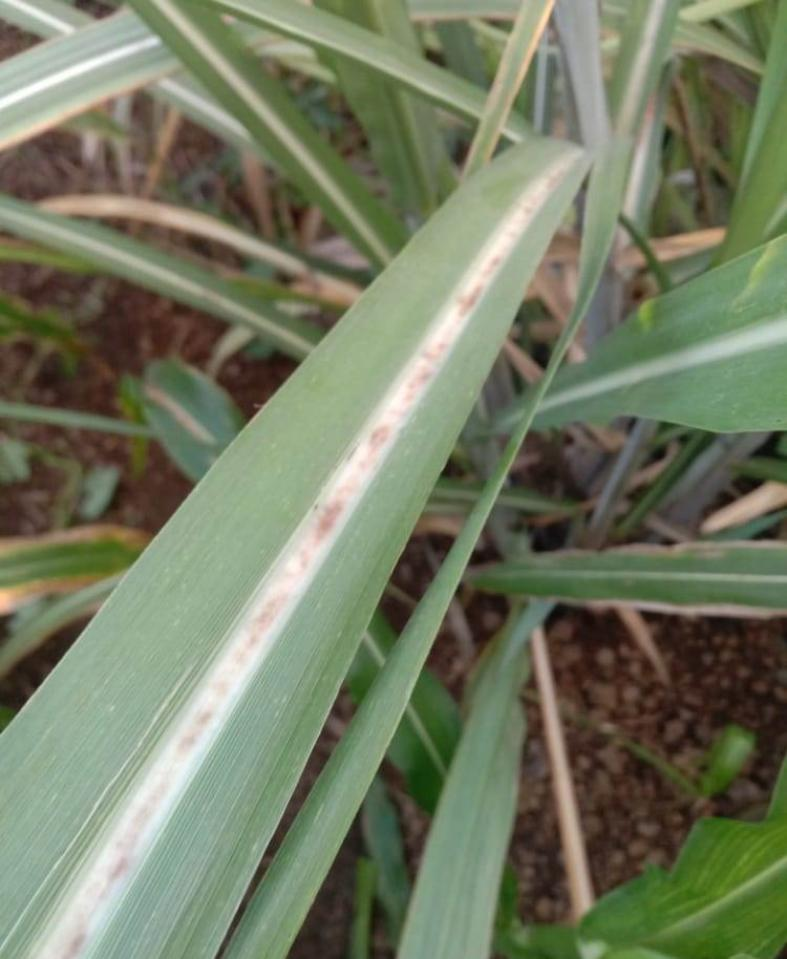RedRot: (38, 160, 566, 959)
